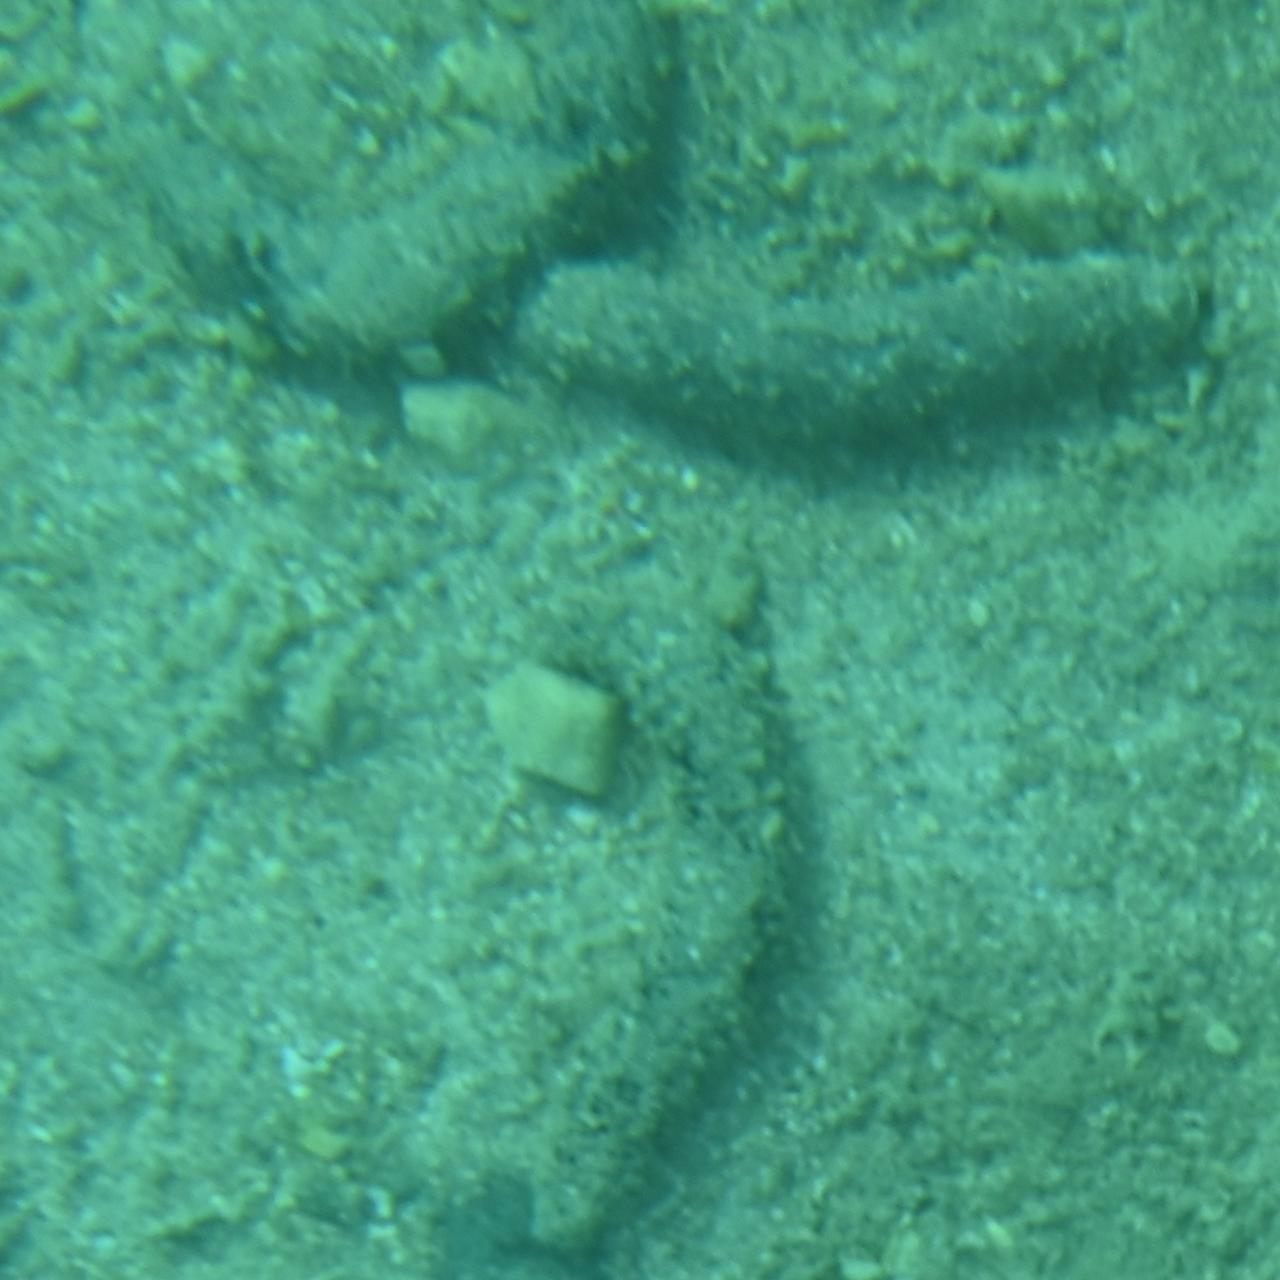Holothuria tubulosa: (125, 0, 707, 388), (499, 559, 787, 1280), (495, 244, 1235, 467)
